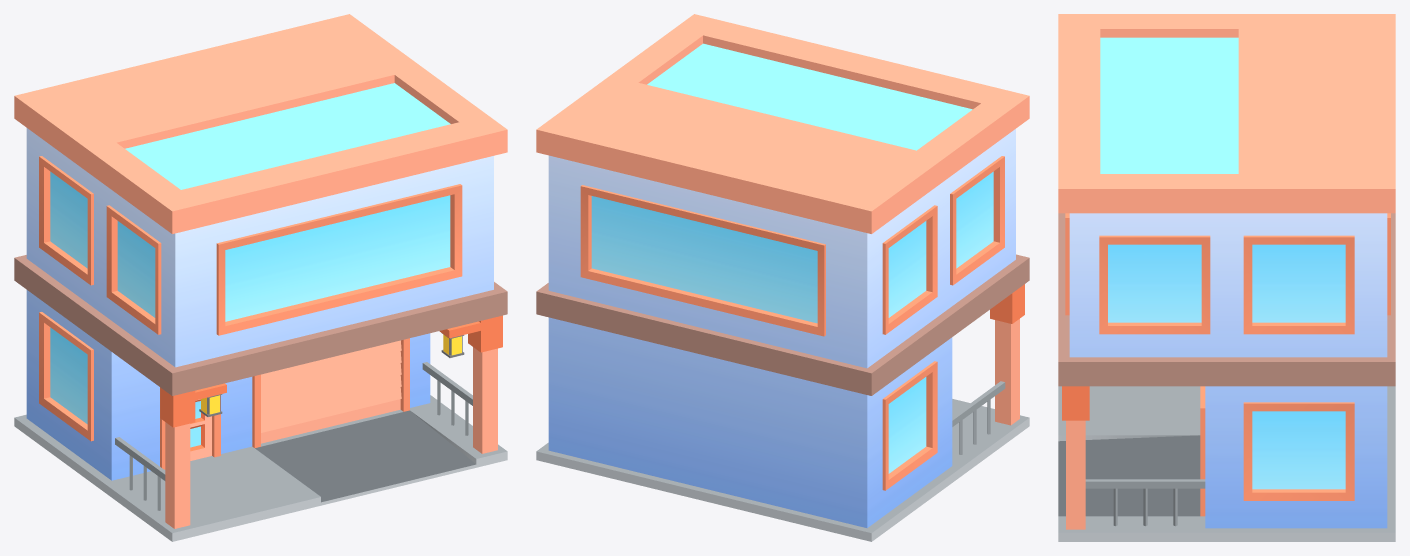
The model's file is city2-building-living-17.glb.
3 views of the same model, side by side, from view 1: azimuth 30°, elevation 25°; view 2: azimuth 150°, elevation 25°; view 3: azimuth 270°, elevation 25° (orthographic). The views are drawn at different scales.
Visible parts, largest first — view 1: Building_Living_17; view 2: Building_Living_17; view 3: Building_Living_17.
Boxes of the visible parts, x1,y1,x2,y2 form: Building_Living_17: (14,14,507,541); Building_Living_17: (536,14,1029,541); Building_Living_17: (1058,14,1395,541).
Size of the model in its own units: 8.03 by 7.57 by 6.55.
Materials: 1 (1 with a texture image).
